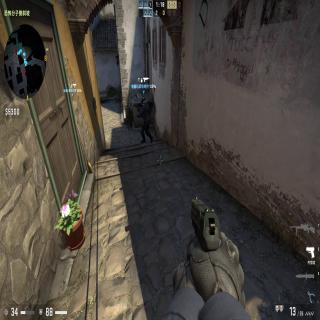CT-Body: (137, 96, 153, 144)
CT-Head: (141, 97, 146, 103)
